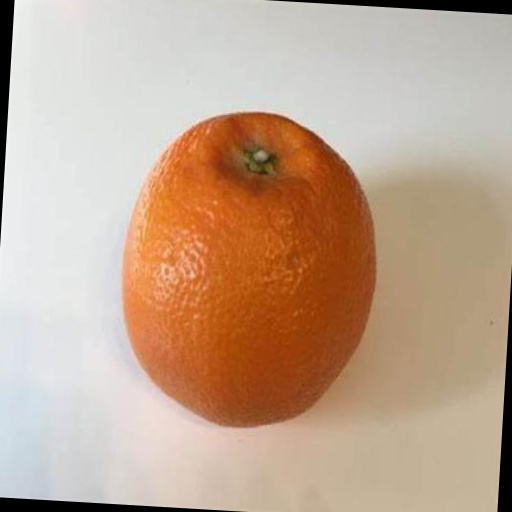fruit: (262, 145, 459, 512)
